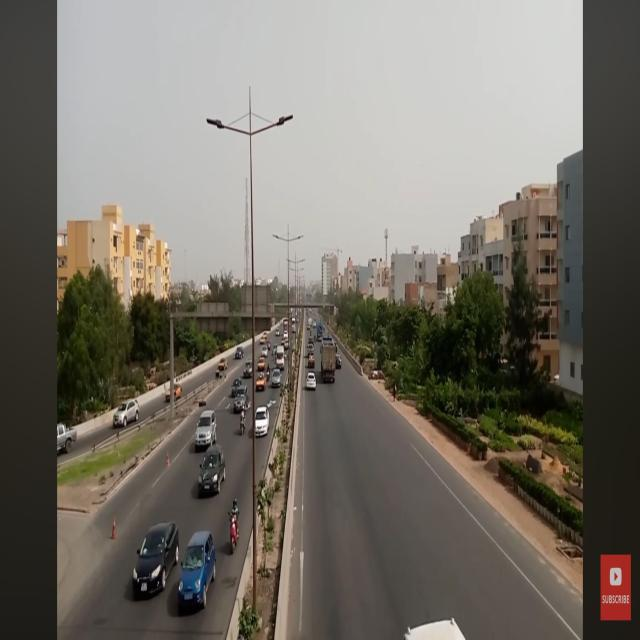camion: (322, 335, 338, 384), (316, 320, 326, 343)
fourgon: (277, 344, 286, 373)
moto: (228, 514, 241, 558), (239, 411, 248, 442), (266, 370, 272, 385)
particulier: (132, 519, 181, 597), (178, 529, 219, 613), (198, 440, 227, 499), (194, 408, 219, 450), (113, 398, 143, 432), (253, 405, 271, 439), (234, 386, 249, 416), (272, 369, 284, 391), (307, 372, 318, 393), (235, 345, 246, 362)
taxi: (165, 384, 183, 404), (257, 372, 269, 395), (218, 357, 230, 375), (258, 356, 268, 375), (308, 356, 316, 370)
